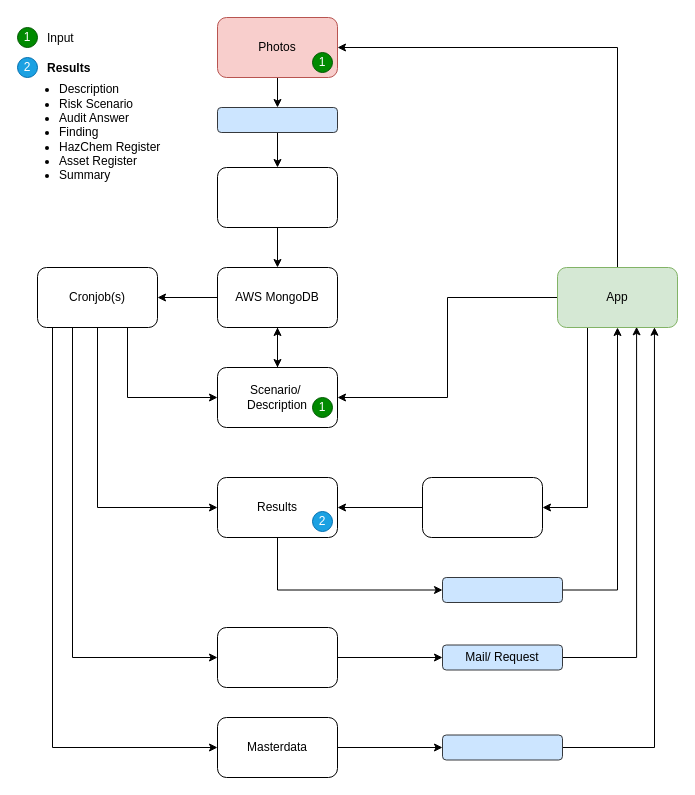
This 695x795 diagram has some shape labels left out. Here are the shapes that lost their labels. From the top down, the box of each, then its label:
(216, 106, 338, 132): Compressor
(216, 166, 338, 228): Batch upload
(422, 476, 542, 538): Settings
(442, 576, 562, 602): Push Notification
(216, 626, 338, 688): Report
(442, 734, 562, 760): Update User Profile
